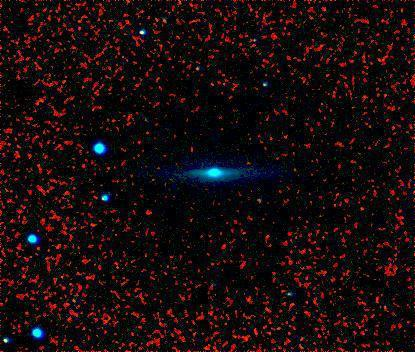star: (132, 199, 162, 229)
